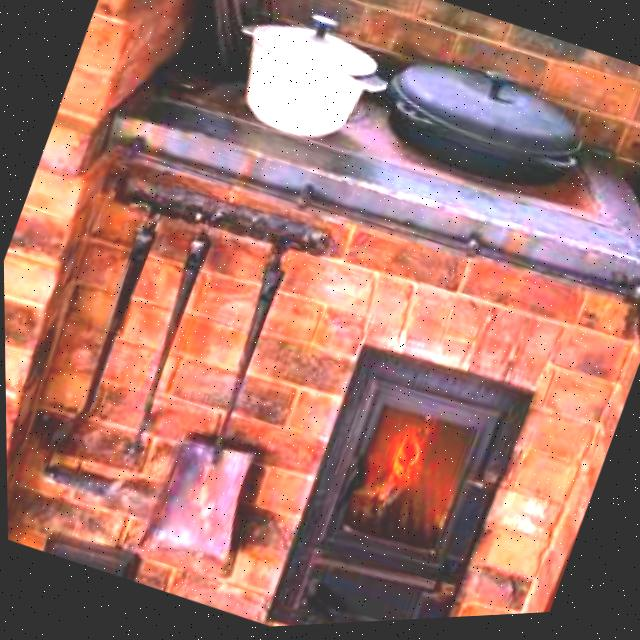Fire: (355, 403, 448, 537)
